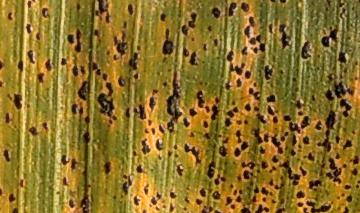tarspot: (165, 66, 183, 133), (96, 81, 119, 126), (315, 110, 338, 153), (278, 159, 302, 186), (92, 1, 114, 24), (325, 157, 342, 186), (332, 81, 354, 101), (304, 198, 333, 213), (161, 27, 175, 57), (276, 23, 291, 51), (183, 143, 202, 165), (269, 133, 286, 156), (113, 32, 128, 57), (319, 29, 338, 47), (299, 39, 314, 61), (248, 35, 267, 52), (132, 103, 148, 121), (228, 61, 246, 77), (121, 172, 134, 194), (77, 80, 89, 103), (148, 88, 159, 113), (73, 27, 83, 54), (339, 98, 352, 117), (79, 193, 91, 213), (206, 159, 217, 180), (140, 137, 152, 156), (263, 63, 275, 81), (247, 87, 261, 102), (128, 52, 139, 71), (195, 89, 205, 109), (12, 92, 23, 110), (187, 11, 198, 29), (254, 112, 268, 126), (308, 179, 323, 192), (90, 61, 102, 77), (253, 126, 263, 145), (26, 48, 37, 65), (227, 1, 238, 18), (241, 159, 256, 171), (150, 191, 162, 206), (254, 203, 271, 213), (217, 145, 230, 158), (153, 137, 165, 151), (336, 51, 348, 64), (288, 122, 301, 134), (324, 88, 335, 102), (189, 50, 198, 67), (210, 104, 219, 121), (300, 115, 310, 130), (342, 138, 354, 150), (103, 160, 112, 176), (27, 126, 40, 137), (60, 154, 71, 167), (225, 49, 236, 62), (82, 131, 92, 145), (117, 75, 127, 89), (175, 163, 185, 177), (234, 128, 242, 145), (126, 2, 135, 17), (247, 15, 256, 30), (338, 7, 347, 22), (265, 93, 276, 105), (61, 175, 72, 187), (7, 192, 18, 204), (210, 7, 221, 19), (239, 1, 250, 13), (40, 6, 50, 19), (298, 164, 308, 177), (223, 116, 233, 129), (156, 122, 166, 135), (44, 57, 52, 73), (3, 148, 11, 164), (291, 132, 299, 148), (16, 59, 25, 73), (4, 111, 13, 125), (70, 156, 79, 170), (266, 22, 275, 36), (135, 164, 146, 175), (211, 189, 222, 200), (350, 154, 360, 166), (71, 62, 79, 77), (36, 72, 46, 84), (179, 24, 189, 36), (257, 144, 267, 156), (243, 25, 251, 40), (67, 198, 76, 211), (240, 140, 249, 153), (325, 72, 338, 81), (167, 200, 176, 213), (25, 22, 33, 36), (181, 117, 191, 128), (198, 187, 208, 198), (280, 131, 290, 142), (239, 45, 250, 55), (259, 185, 269, 196), (66, 33, 75, 45), (223, 79, 232, 91), (294, 98, 303, 110), (124, 106, 132, 119), (132, 194, 140, 207), (225, 195, 233, 208), (295, 189, 305, 199), (188, 107, 198, 117), (270, 154, 280, 164), (168, 190, 178, 200), (225, 109, 235, 119), (100, 72, 110, 82), (266, 105, 275, 116), (92, 27, 101, 38), (243, 102, 252, 113), (260, 160, 269, 171), (233, 147, 242, 158), (202, 131, 211, 142), (241, 169, 250, 180), (273, 206, 287, 213), (143, 182, 150, 196), (314, 119, 322, 131), (70, 103, 78, 115), (79, 64, 87, 76), (235, 77, 243, 89), (289, 147, 297, 159), (282, 114, 292, 123), (201, 119, 210, 129), (244, 70, 253, 80), (201, 42, 210, 52), (6, 11, 14, 22), (159, 13, 167, 24), (239, 206, 251, 213), (35, 30, 42, 42), (182, 47, 189, 59), (183, 192, 190, 204), (301, 136, 310, 145), (350, 166, 358, 176), (267, 177, 275, 187), (60, 57, 68, 67), (41, 121, 49, 131), (252, 104, 262, 112), (188, 130, 196, 140), (212, 177, 220, 187), (307, 150, 314, 161), (84, 114, 91, 125), (6, 92, 13, 103), (18, 178, 25, 189), (212, 37, 219, 48), (263, 133, 270, 144), (296, 109, 304, 118), (252, 185, 260, 194), (251, 46, 259, 55), (112, 53, 120, 62), (219, 174, 227, 183), (278, 197, 286, 206), (268, 165, 277, 173), (334, 134, 341, 144), (10, 206, 20, 213), (203, 104, 210, 114), (213, 95, 220, 105), (150, 126, 157, 136), (121, 20, 128, 30), (309, 93, 316, 103), (75, 1, 81, 12), (195, 197, 203, 205), (173, 152, 181, 160), (272, 115, 279, 124), (78, 106, 85, 115), (132, 72, 139, 81), (232, 106, 239, 115), (142, 127, 151, 134), (235, 118, 242, 127), (235, 194, 242, 203), (222, 136, 229, 145), (166, 149, 173, 158), (155, 152, 162, 161), (296, 201, 304, 208), (344, 184, 352, 191), (333, 152, 340, 160), (1, 59, 5, 73), (242, 118, 249, 126), (229, 203, 237, 210), (215, 133, 223, 140), (236, 174, 243, 182), (172, 143, 179, 151), (110, 194, 118, 201), (270, 198, 277, 206), (336, 1, 344, 8), (346, 194, 352, 203), (25, 101, 31, 110), (251, 195, 257, 204), (251, 80, 257, 89), (342, 206, 349, 213), (302, 206, 309, 213), (206, 25, 213, 32), (260, 196, 267, 203), (278, 68, 285, 75), (273, 183, 280, 190), (26, 1, 32, 9), (290, 76, 296, 84), (207, 205, 213, 213), (334, 194, 340, 202), (325, 1, 333, 7), (212, 209, 223, 213), (320, 162, 326, 169), (162, 80, 168, 87), (146, 119, 152, 126), (131, 150, 138, 156), (190, 36, 196, 43), (315, 53, 322, 59), (351, 128, 356, 136), (136, 44, 141, 52), (199, 208, 207, 213), (54, 190, 62, 195), (1, 185, 4, 198), (342, 163, 348, 169), (278, 1, 287, 5), (105, 50, 111, 56), (232, 189, 238, 195), (141, 207, 147, 213), (182, 205, 188, 211), (340, 192, 346, 198), (350, 6, 356, 12), (353, 60, 359, 66), (355, 183, 360, 190), (238, 188, 243, 195), (229, 183, 234, 190), (1, 79, 5, 87), (323, 6, 328, 12), (357, 177, 360, 185), (268, 1, 277, 3), (357, 1, 360, 6)
